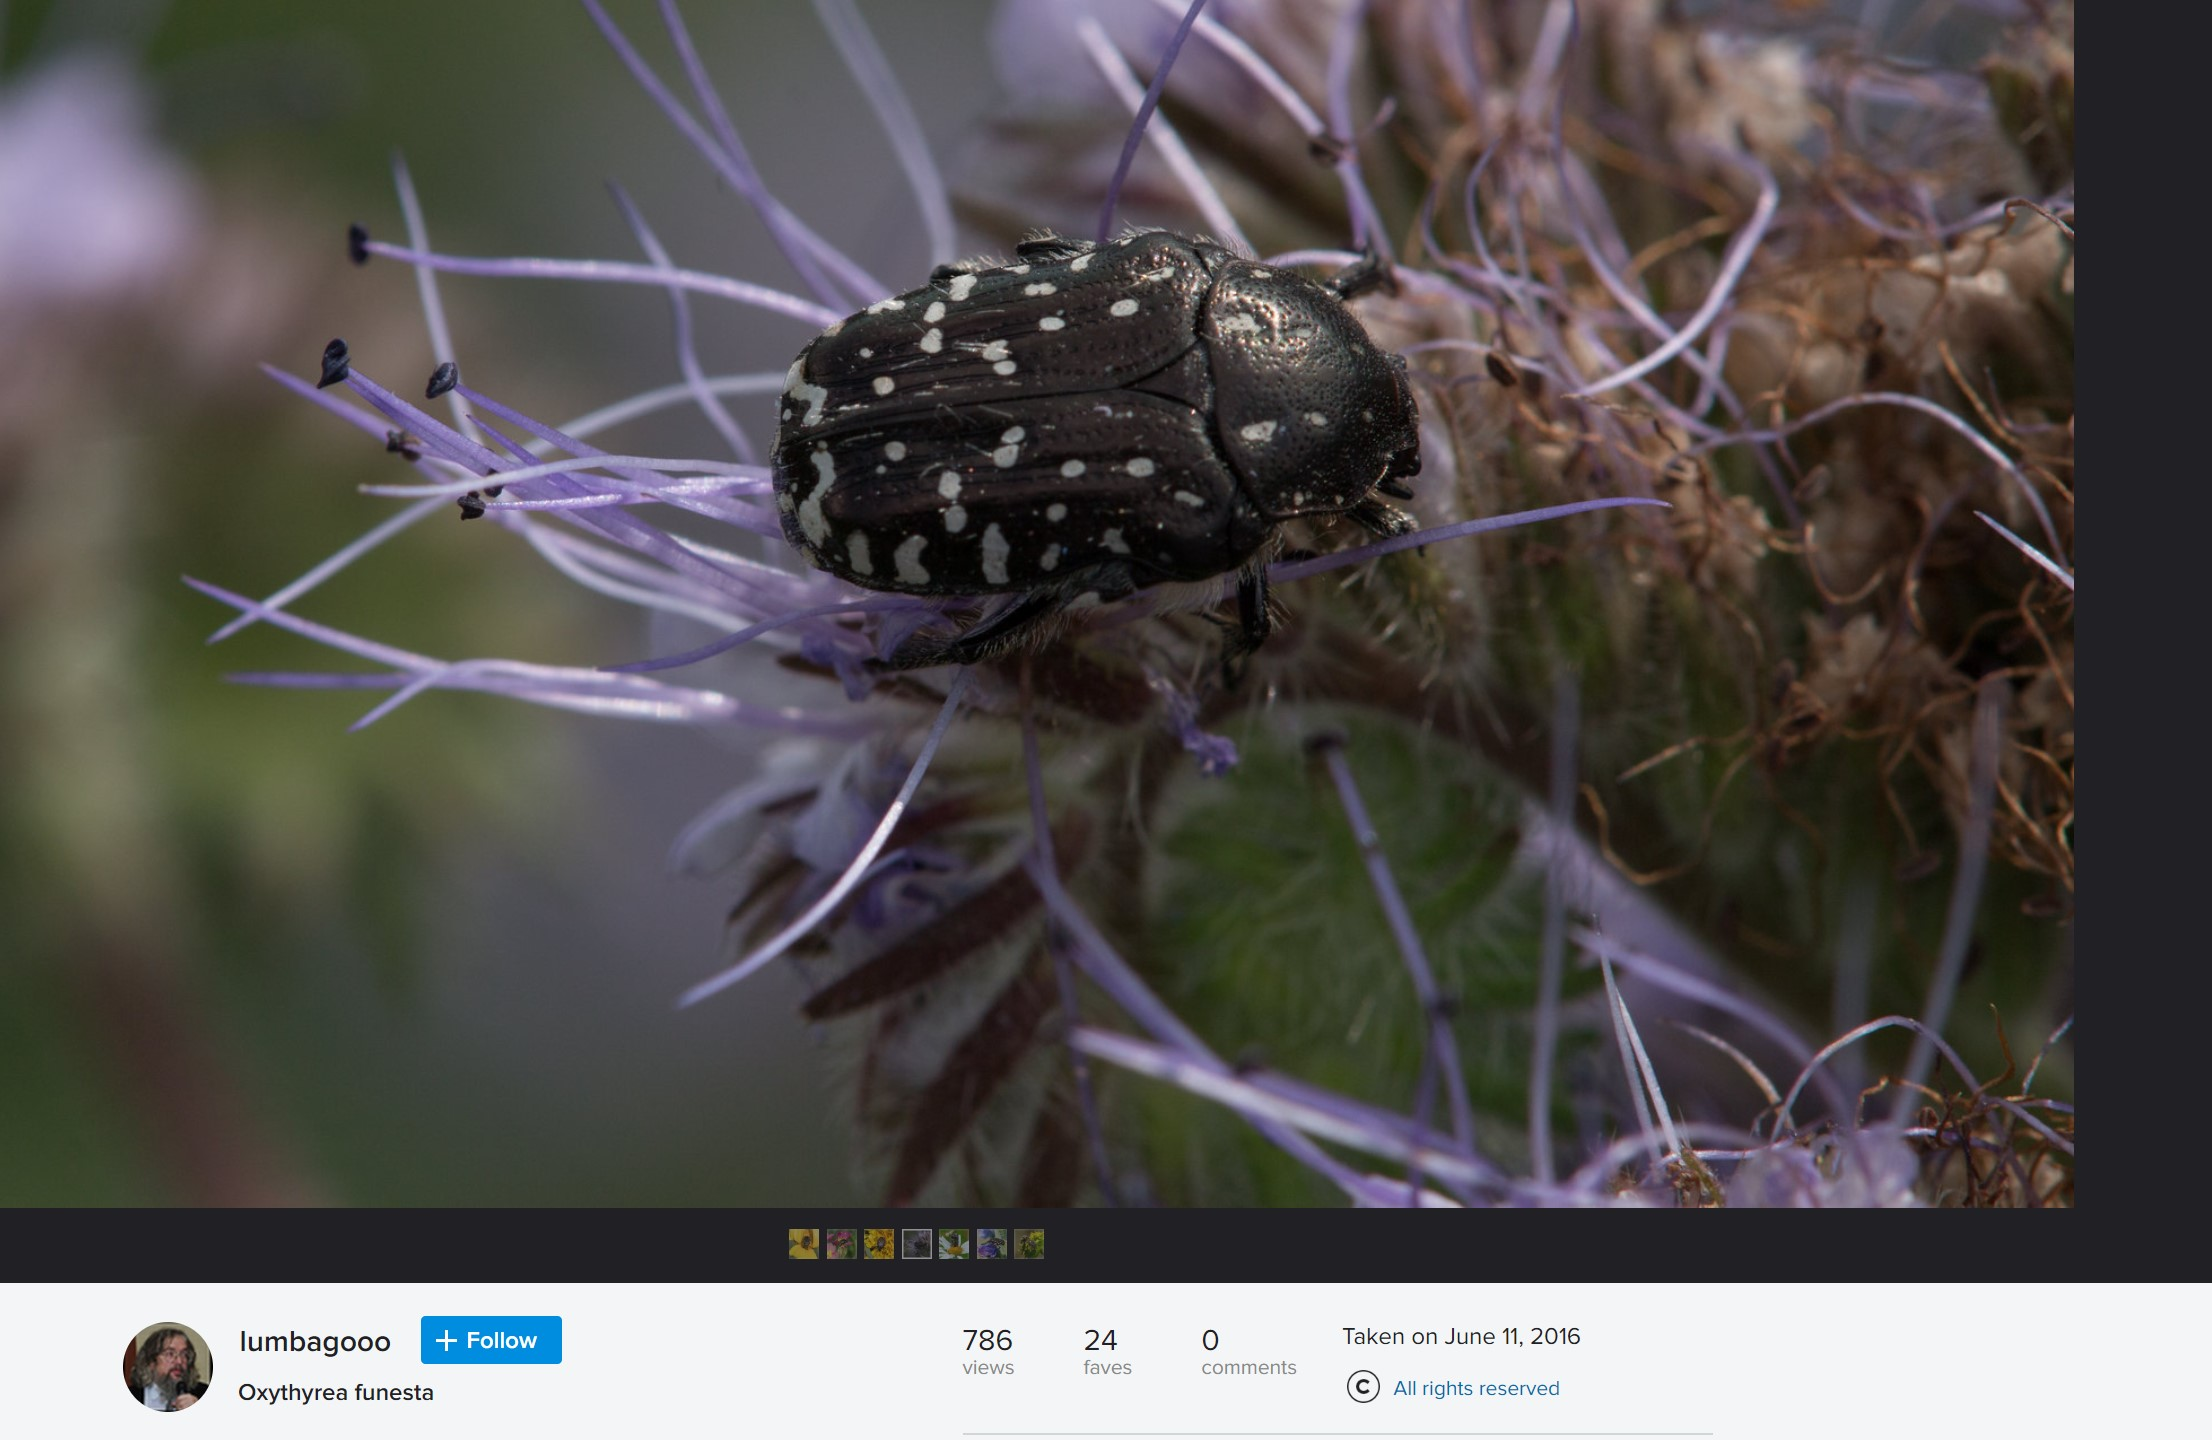Oxythyrea_funesta: (761, 219, 1475, 756)
